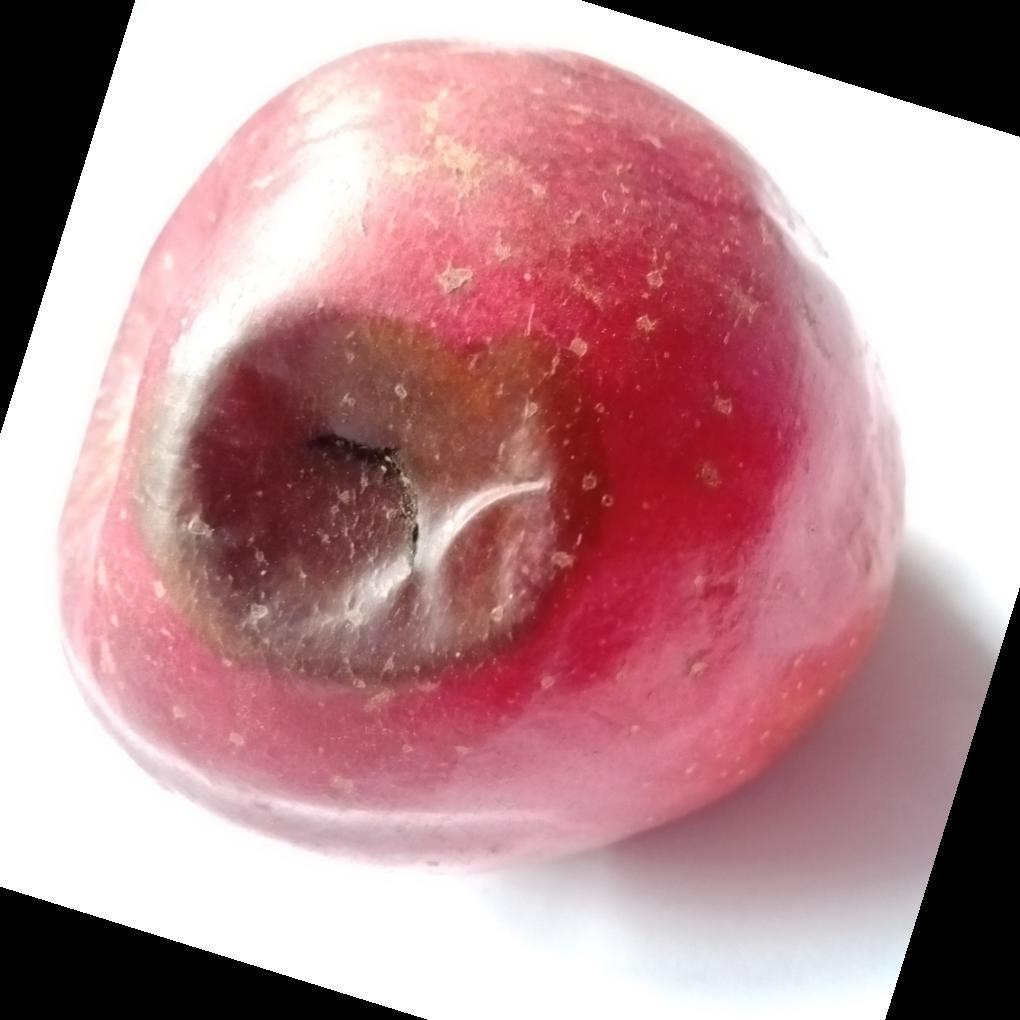FreshOrange: (0, 13, 910, 929)
